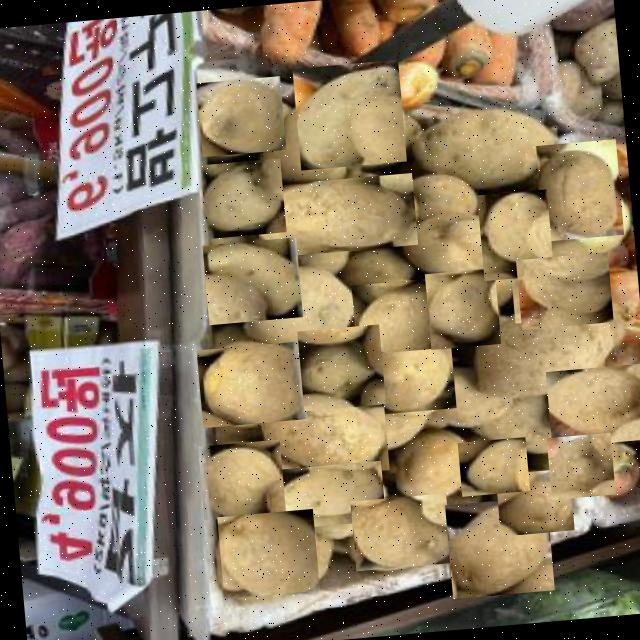Potato: (464, 293, 619, 403), (405, 96, 562, 196), (254, 172, 418, 256), (292, 58, 406, 169), (236, 258, 360, 360), (258, 385, 389, 479), (444, 494, 554, 598), (196, 339, 306, 426), (216, 508, 320, 598), (255, 96, 358, 185), (536, 137, 624, 240), (202, 236, 302, 324), (424, 348, 514, 438), (349, 492, 452, 570), (545, 362, 640, 446), (296, 323, 386, 410), (274, 459, 386, 528), (486, 377, 577, 461), (516, 250, 614, 328), (196, 74, 286, 156), (476, 188, 554, 280), (198, 438, 286, 519), (200, 156, 286, 238), (351, 277, 441, 354), (364, 339, 456, 414), (404, 207, 502, 276), (390, 424, 478, 499), (424, 266, 500, 348), (495, 467, 574, 535), (510, 254, 584, 322), (402, 170, 478, 236), (546, 432, 615, 498), (458, 436, 530, 496)
